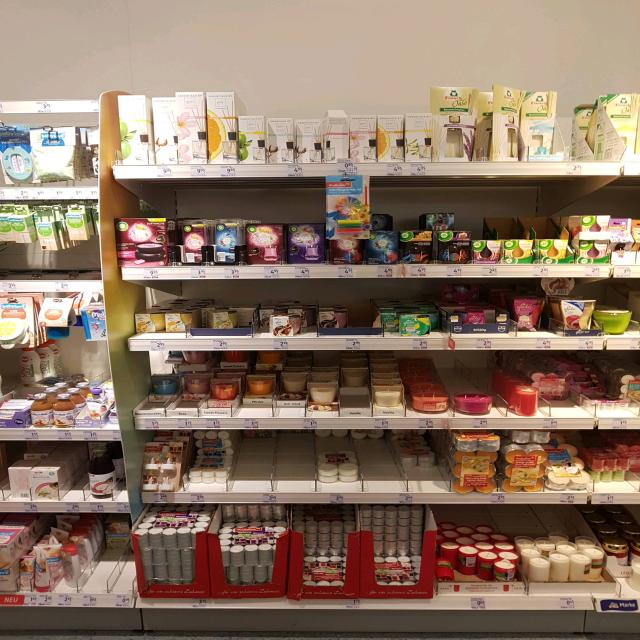void: (558, 88, 598, 175), (236, 428, 268, 504), (272, 432, 300, 502), (61, 448, 85, 514), (353, 288, 376, 349), (492, 358, 509, 426), (302, 433, 318, 503)
